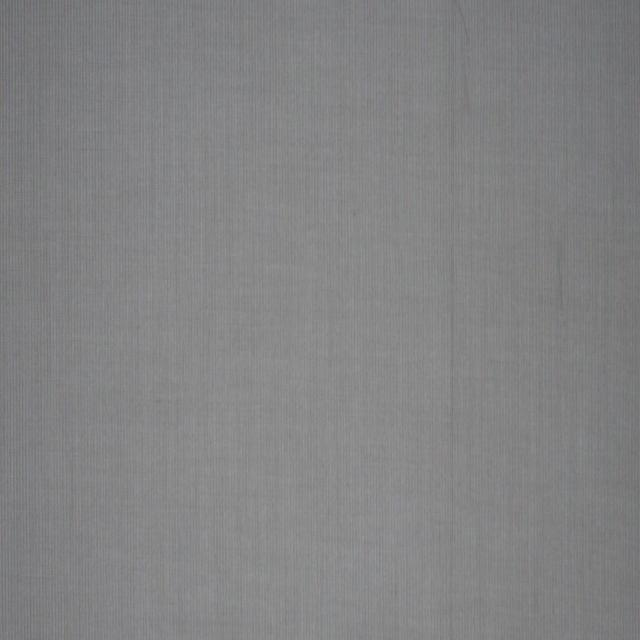dirty: (558, 255, 565, 309)
